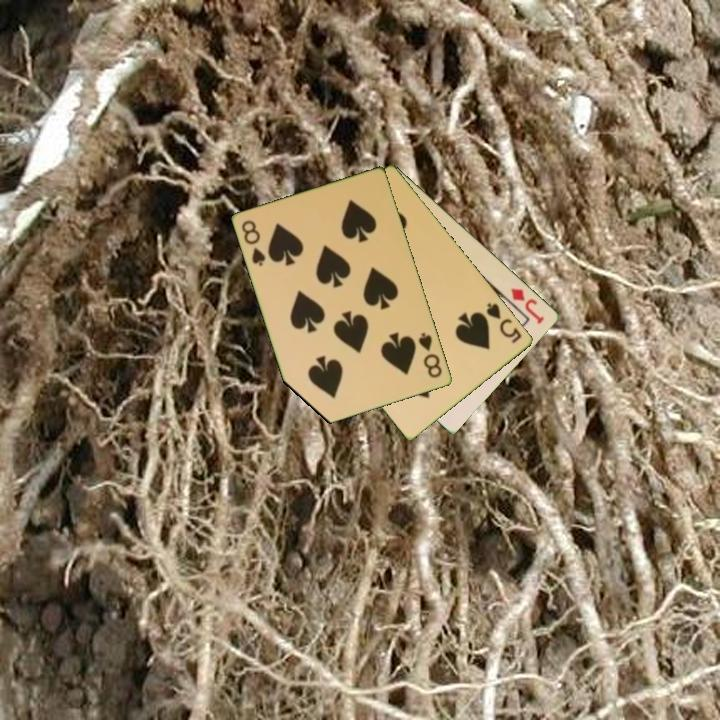5s: (483, 299, 525, 346)
8s: (238, 217, 269, 269), (415, 329, 445, 381)
Jd: (507, 284, 548, 327)
